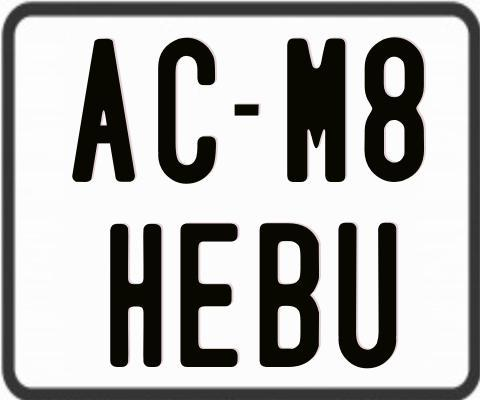8: (361, 34, 424, 181)
A: (71, 36, 137, 182)
B: (259, 220, 324, 369)
C: (156, 35, 220, 183)
E: (180, 222, 242, 371)
H: (107, 221, 158, 365)
M: (285, 35, 344, 179)
U: (337, 223, 401, 373)
